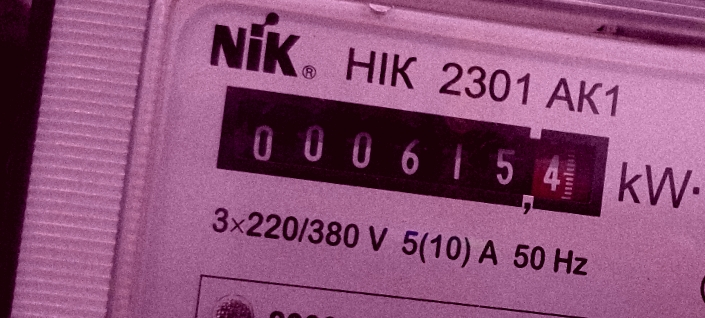0: (346, 126, 377, 172), (247, 118, 278, 163), (299, 120, 328, 163)
1: (448, 139, 467, 181)
4: (540, 149, 565, 192)
5: (490, 143, 519, 188)
6: (395, 133, 425, 177)
screen: (199, 64, 626, 240)
